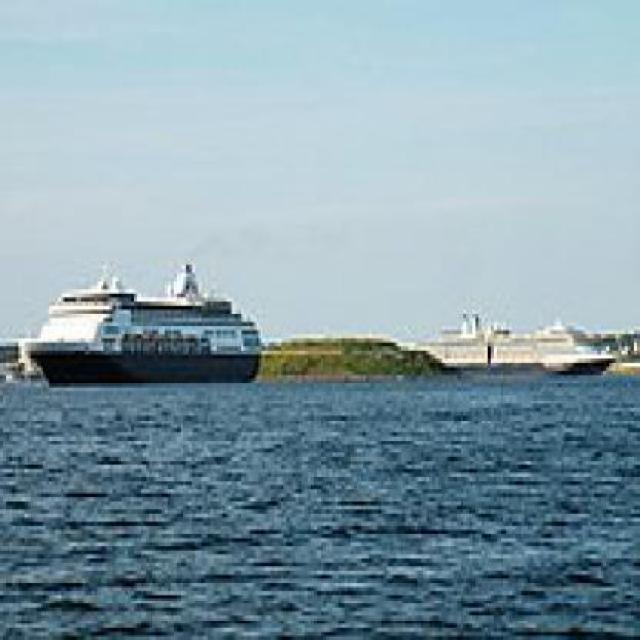cruise: (22, 254, 276, 396)
